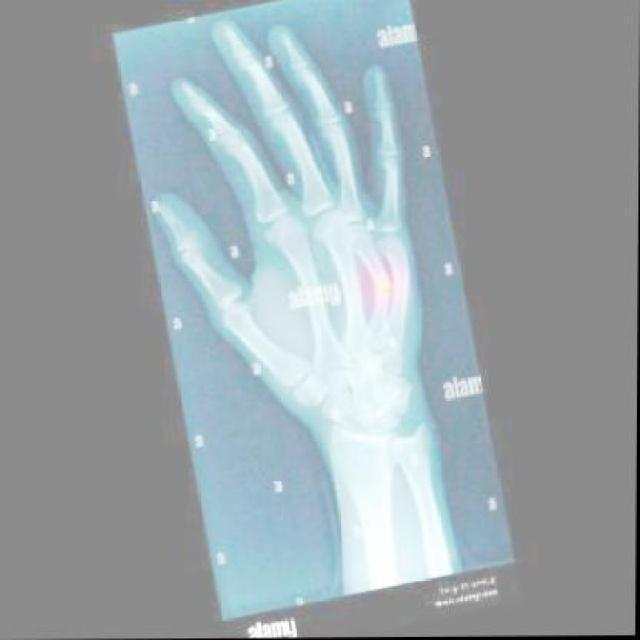Fracture: (363, 266, 396, 302)
